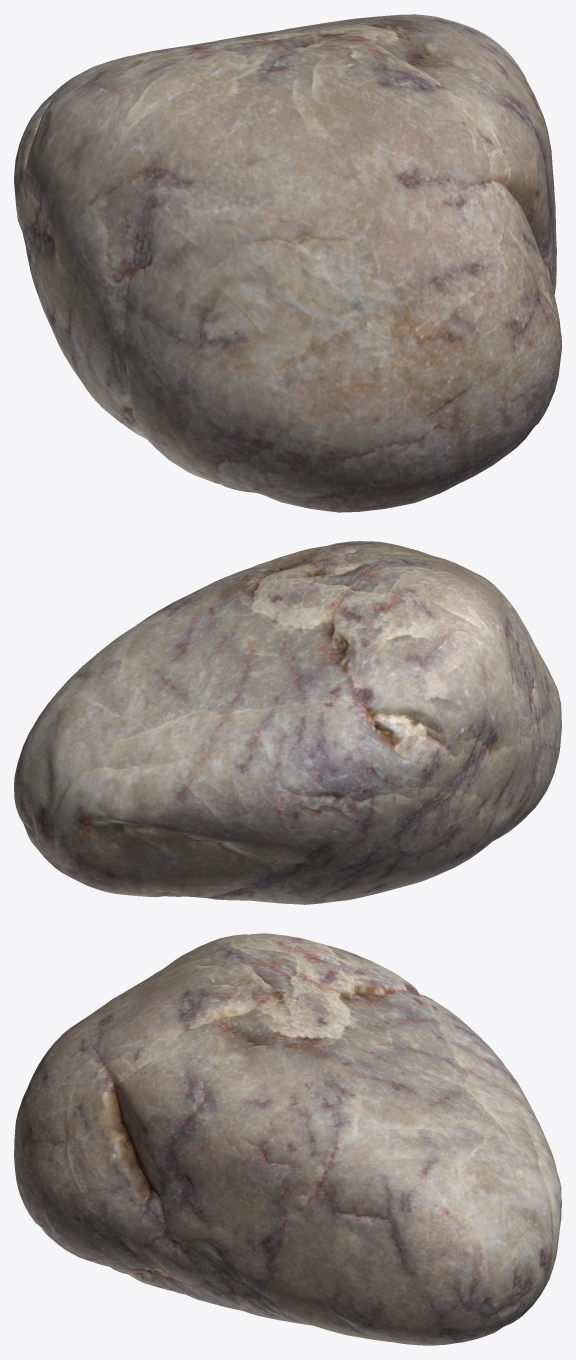
The picture shows the model from 3 angles, top to bottom: view 1: azimuth 30°, elevation 25°; view 2: azimuth 150°, elevation 25°; view 3: azimuth 270°, elevation 25°; orthographic projection. The views are drawn at different scales.
Visible parts, largest first — view 1: rock-006; view 2: rock-006; view 3: rock-006.
Part boxes in pixels (bbox=[...]): rock-006: bbox=[14, 14, 561, 512]; rock-006: bbox=[14, 541, 561, 904]; rock-006: bbox=[14, 933, 561, 1345].
Size of the model in its own units: 1.76 by 1.22 by 2.
1 material, 1 textured.
